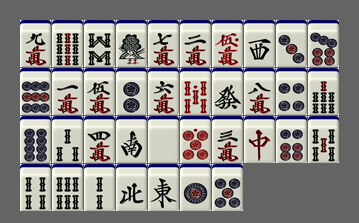0m: (212, 20, 243, 67)
0p: (180, 116, 211, 163)
0s: (180, 68, 211, 115)
1m: (52, 68, 83, 115)
1p: (180, 164, 211, 211)
1s: (116, 20, 147, 67)
1z: (148, 164, 179, 211)
2m: (180, 20, 211, 67)
2p: (116, 68, 147, 115)
2s: (84, 164, 115, 211)
2z: (116, 116, 147, 163)
3m: (212, 116, 243, 163)
3p: (276, 20, 307, 67)
3s: (52, 116, 83, 163)
3z: (244, 20, 275, 67)
4m: (84, 116, 115, 163)
4p: (276, 68, 307, 115)
4s: (20, 164, 51, 211)
4z: (116, 164, 147, 211)
5m: (84, 68, 115, 115)
5p: (212, 164, 243, 211)
5s: (308, 116, 339, 163)
5z: (148, 116, 179, 163)
6m: (148, 68, 179, 115)
6p: (276, 116, 307, 163)
6s: (52, 164, 83, 211)
6z: (212, 68, 243, 115)
7m: (148, 20, 179, 67)
7p: (308, 20, 339, 67)
7s: (308, 68, 339, 115)
7z: (244, 116, 275, 163)
8m: (244, 68, 275, 115)
8p: (20, 116, 51, 163)
8s: (84, 20, 115, 67)
9m: (20, 20, 51, 67)
9p: (20, 68, 51, 115)
9s: (52, 20, 83, 67)
